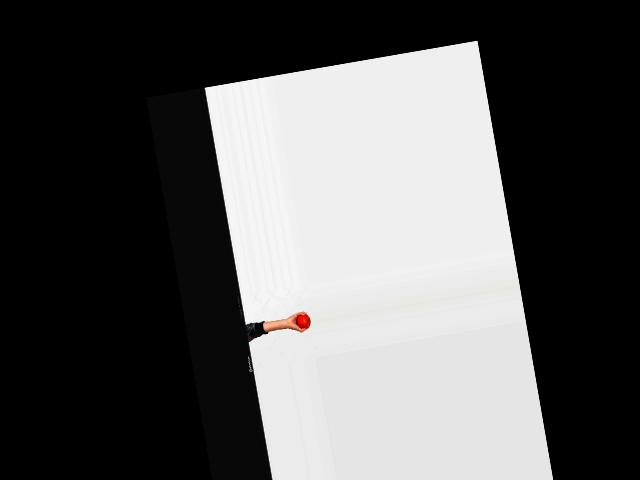tomato: (295, 312, 311, 330)
